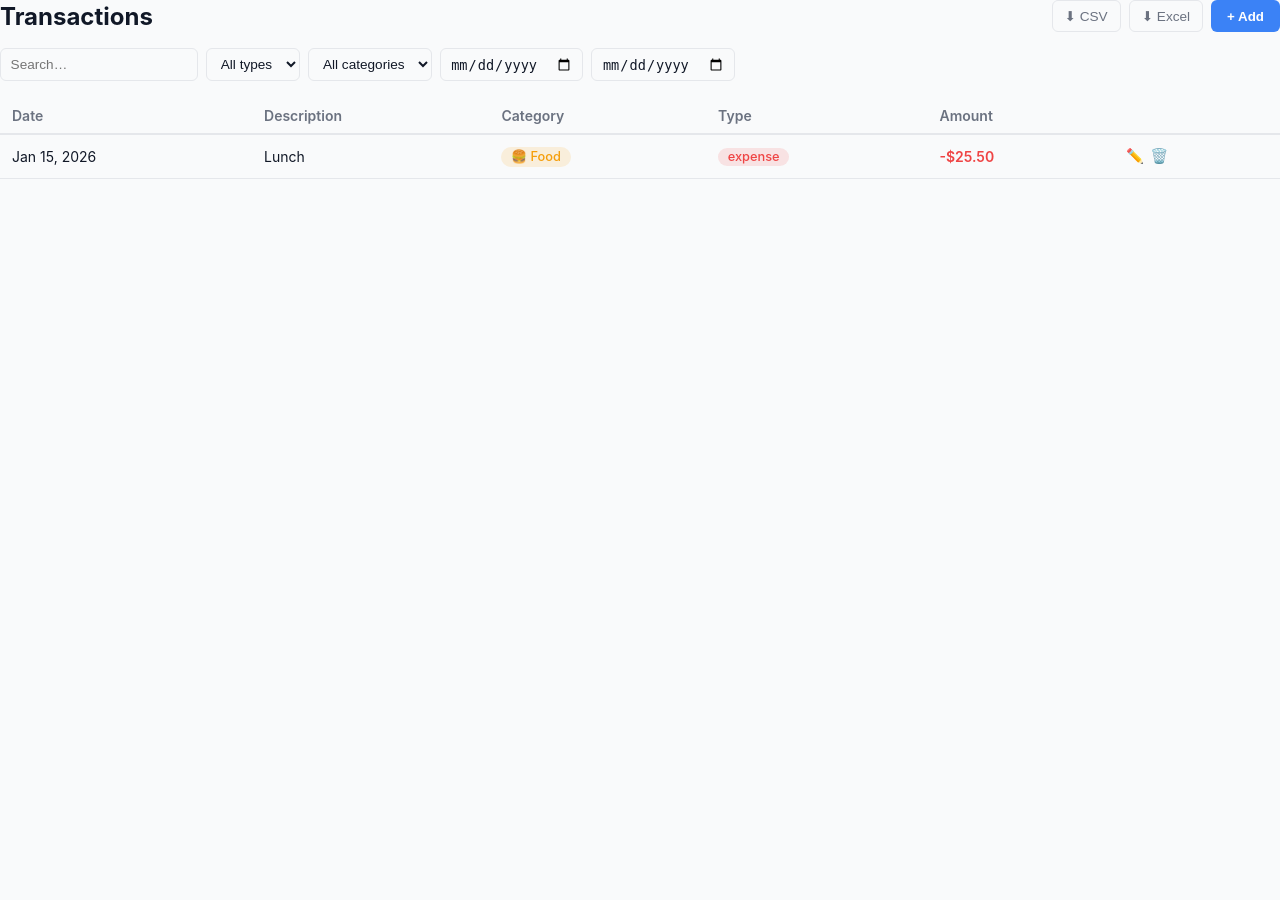
Test: TransactionsPage › closes the modal when Cancel is clicked
The width and height of the screenshot is (1280, 900).
Click the button "+ Add".
click(1246, 16)  # box [1211,0,1279,32]
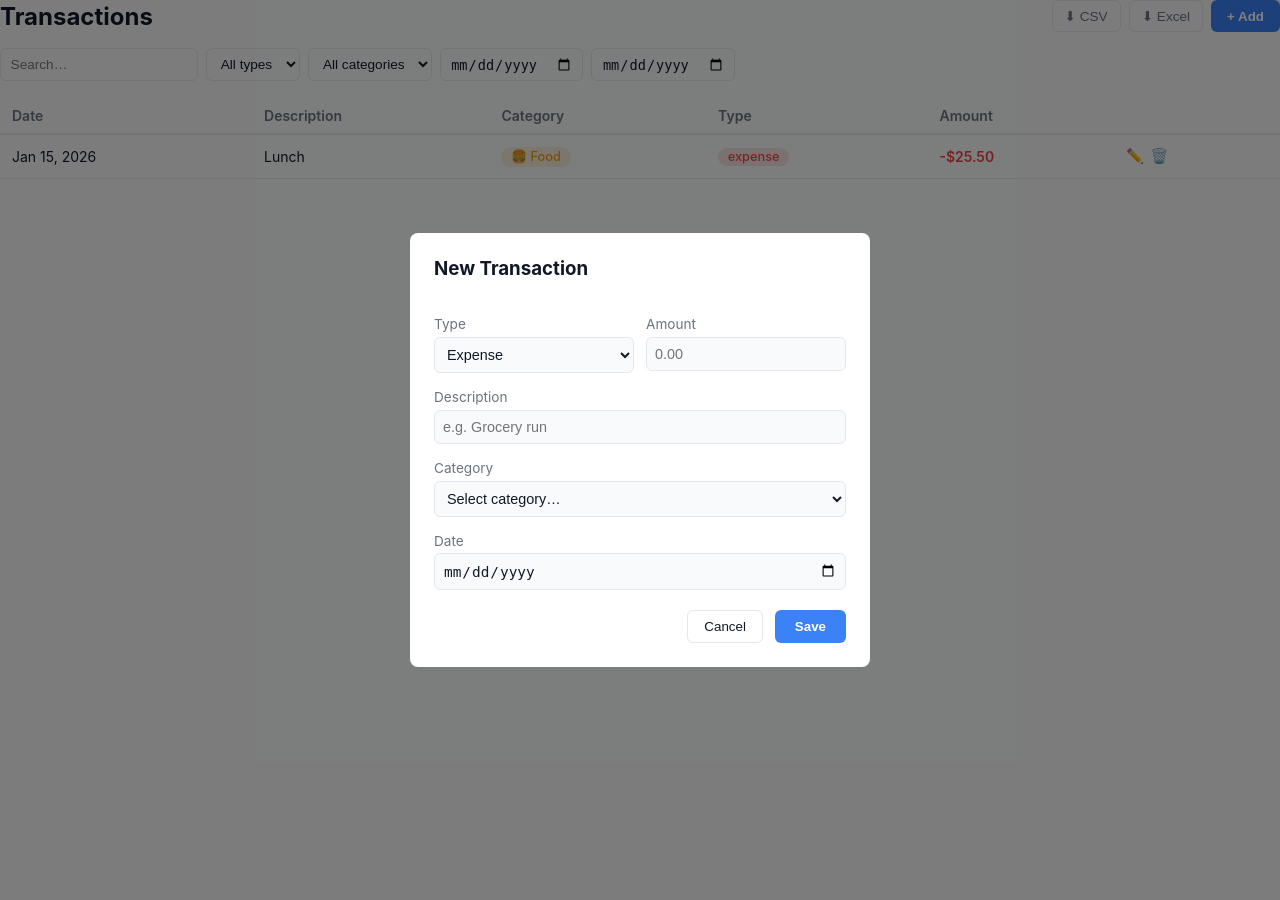
Click the button "Cancel".
click(725, 626)  # box [687,610,763,643]
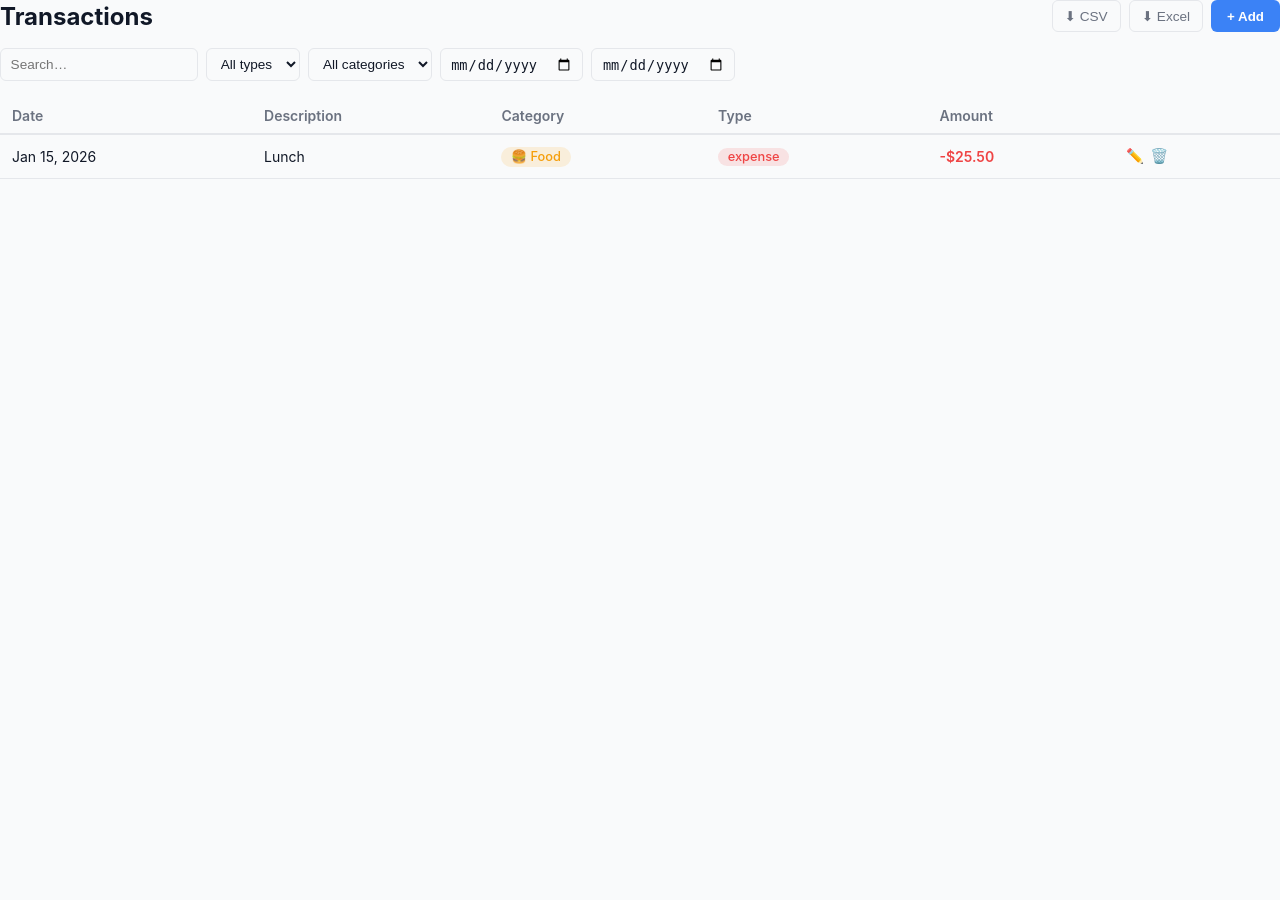
Check: the heading "New Transaction" is gone
